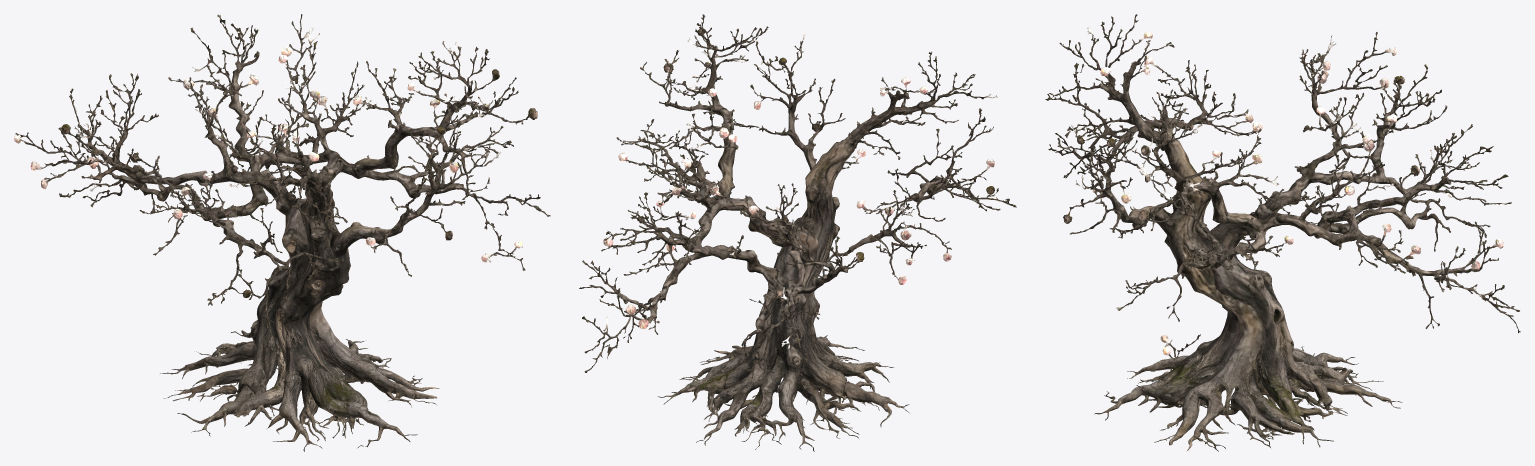
Rendered from ancient-peach-tree-v1.glb.
3 views of the same model, side by side, from view 1: azimuth 30°, elevation 25°; view 2: azimuth 150°, elevation 25°; view 3: azimuth 270°, elevation 25° (orthographic). The views are drawn at different scales.
Size of the model in its own units: 1.85 by 1.5 by 1.87.
Materials: 1 (1 with a texture image).
